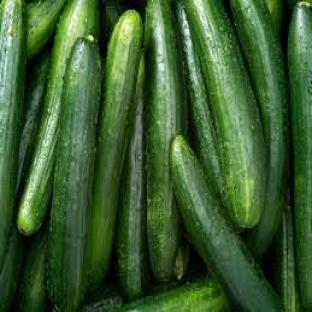Cucumber: (170, 136, 280, 311), (88, 10, 143, 289), (47, 36, 101, 311), (116, 54, 148, 299), (288, 2, 311, 310), (17, 52, 50, 189), (115, 280, 230, 311), (275, 197, 302, 311), (15, 227, 48, 311), (0, 226, 24, 311), (81, 284, 124, 311), (174, 237, 190, 281)
